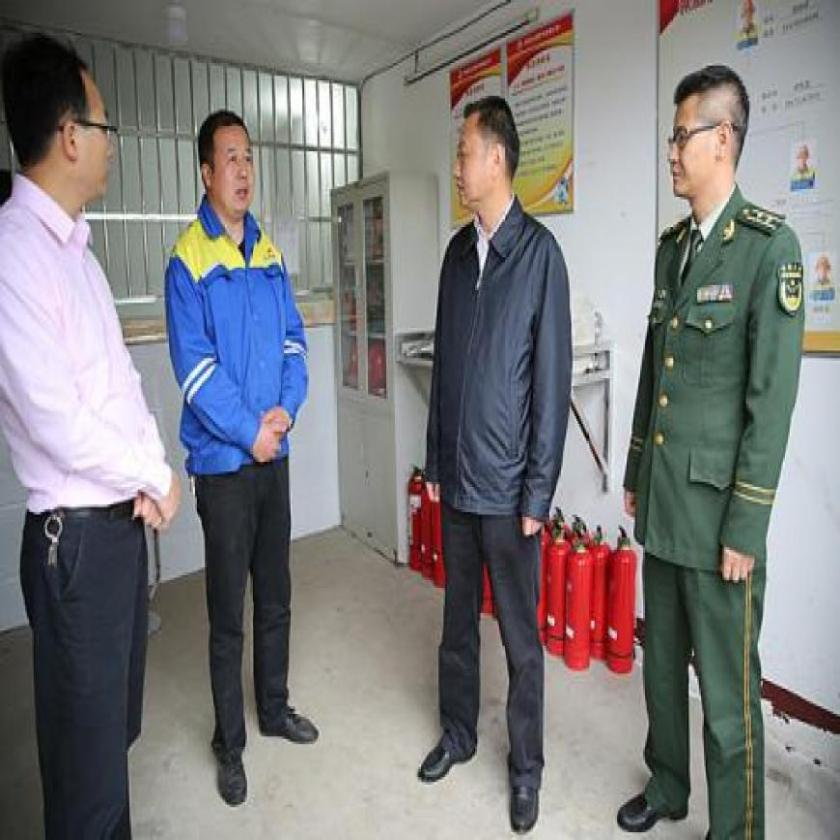Sin_casco: (0, 31, 124, 214), (663, 62, 754, 212), (190, 96, 268, 238), (450, 91, 523, 241)
